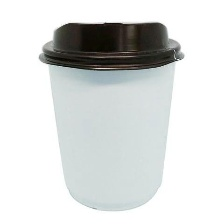paper_cup: (33, 18, 190, 215)
